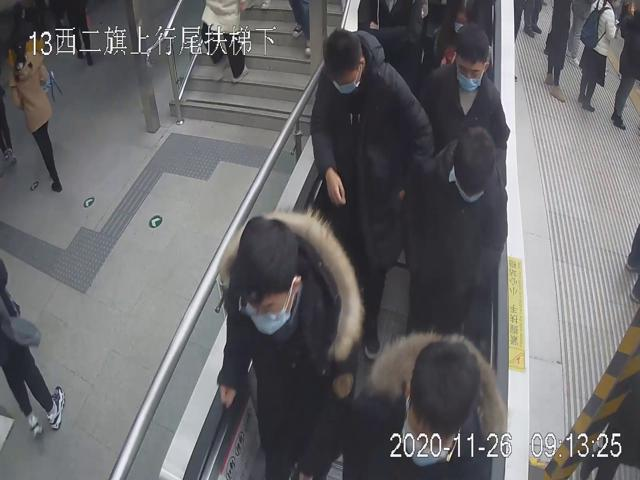person: (309, 23, 433, 361), (219, 208, 364, 480), (337, 329, 508, 480), (404, 122, 509, 347), (418, 21, 513, 145)
